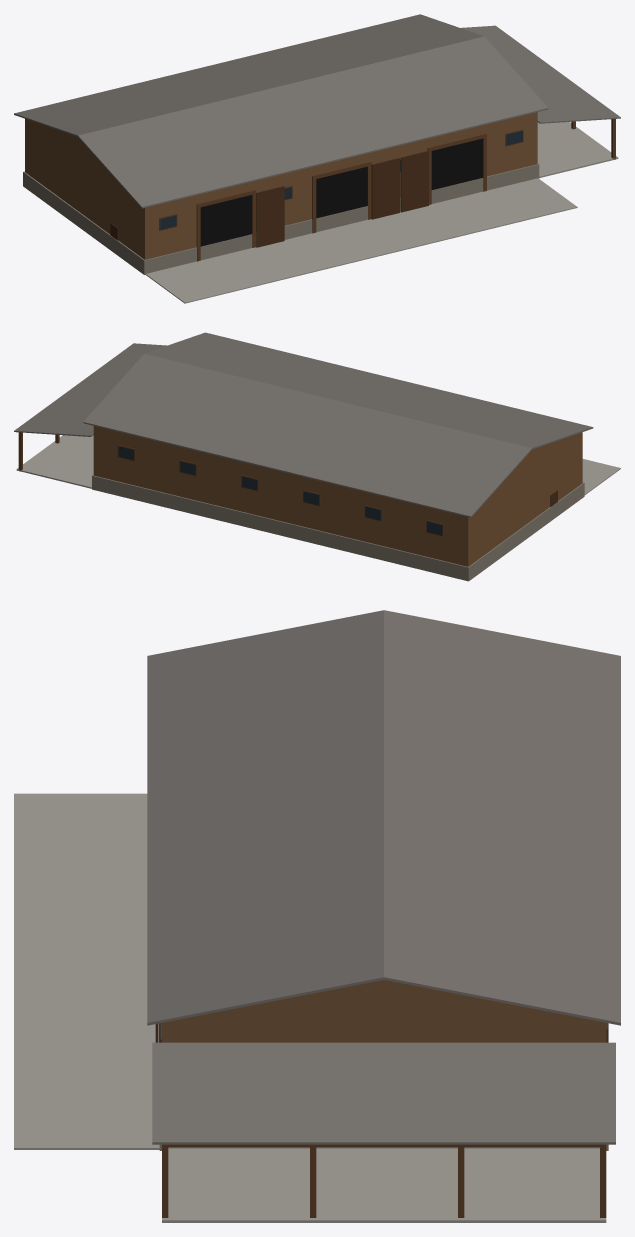
The model's file is dk-depot.glb.
3 views of the same model, one above another, from view 1: azimuth 30°, elevation 25°; view 2: azimuth 150°, elevation 25°; view 3: azimuth 270°, elevation 25° (orthographic). The views are drawn at different scales.
Parts seen in each view (by area): view 1: Roof, Walls, Apron, Plinth, LeanToRoof, LeanToSlab, Bay0, Bay1, Bay2, DoorLeaf0, DoorLeaf1, DoorLeaf2 (+1 smaller); view 2: Roof, Walls, Plinth, LeanToRoof, LeanToSlab, Apron, GableL; view 3: Roof, Apron, LeanToRoof, LeanToSlab, Walls, GableR, LeanToBeam, Plinth.
Part boxes in pixels (box(x1,y1,x2,y2)): Roof: box(14, 14, 548, 208); Walls: box(25, 112, 537, 259); Apron: box(145, 178, 577, 303); Plinth: box(23, 163, 539, 274); LeanToRoof: box(461, 25, 620, 123); LeanToSlab: box(537, 122, 618, 177); Bay0: box(200, 195, 251, 246); Bay1: box(316, 166, 367, 218); Bay2: box(431, 138, 482, 189); DoorLeaf0: box(256, 186, 284, 247); DoorLeaf1: box(371, 158, 399, 219); DoorLeaf2: box(400, 151, 428, 212); Roof: box(83, 332, 593, 517); Walls: box(93, 426, 582, 566); Plinth: box(92, 474, 584, 581); LeanToRoof: box(14, 343, 166, 436); LeanToSlab: box(16, 435, 93, 488); Apron: box(582, 459, 620, 494); GableL: box(494, 436, 570, 492); Roof: box(147, 610, 620, 1025); Apron: box(14, 793, 159, 1149); LeanToRoof: box(152, 1042, 615, 1144); LeanToSlab: box(162, 1148, 606, 1222); Walls: box(162, 1015, 606, 1042); GableR: box(200, 980, 567, 1015); LeanToBeam: box(162, 1144, 606, 1146); Plinth: box(159, 1023, 608, 1150).
Size of the model in its own units: 41.6 by 8 by 24.6.
